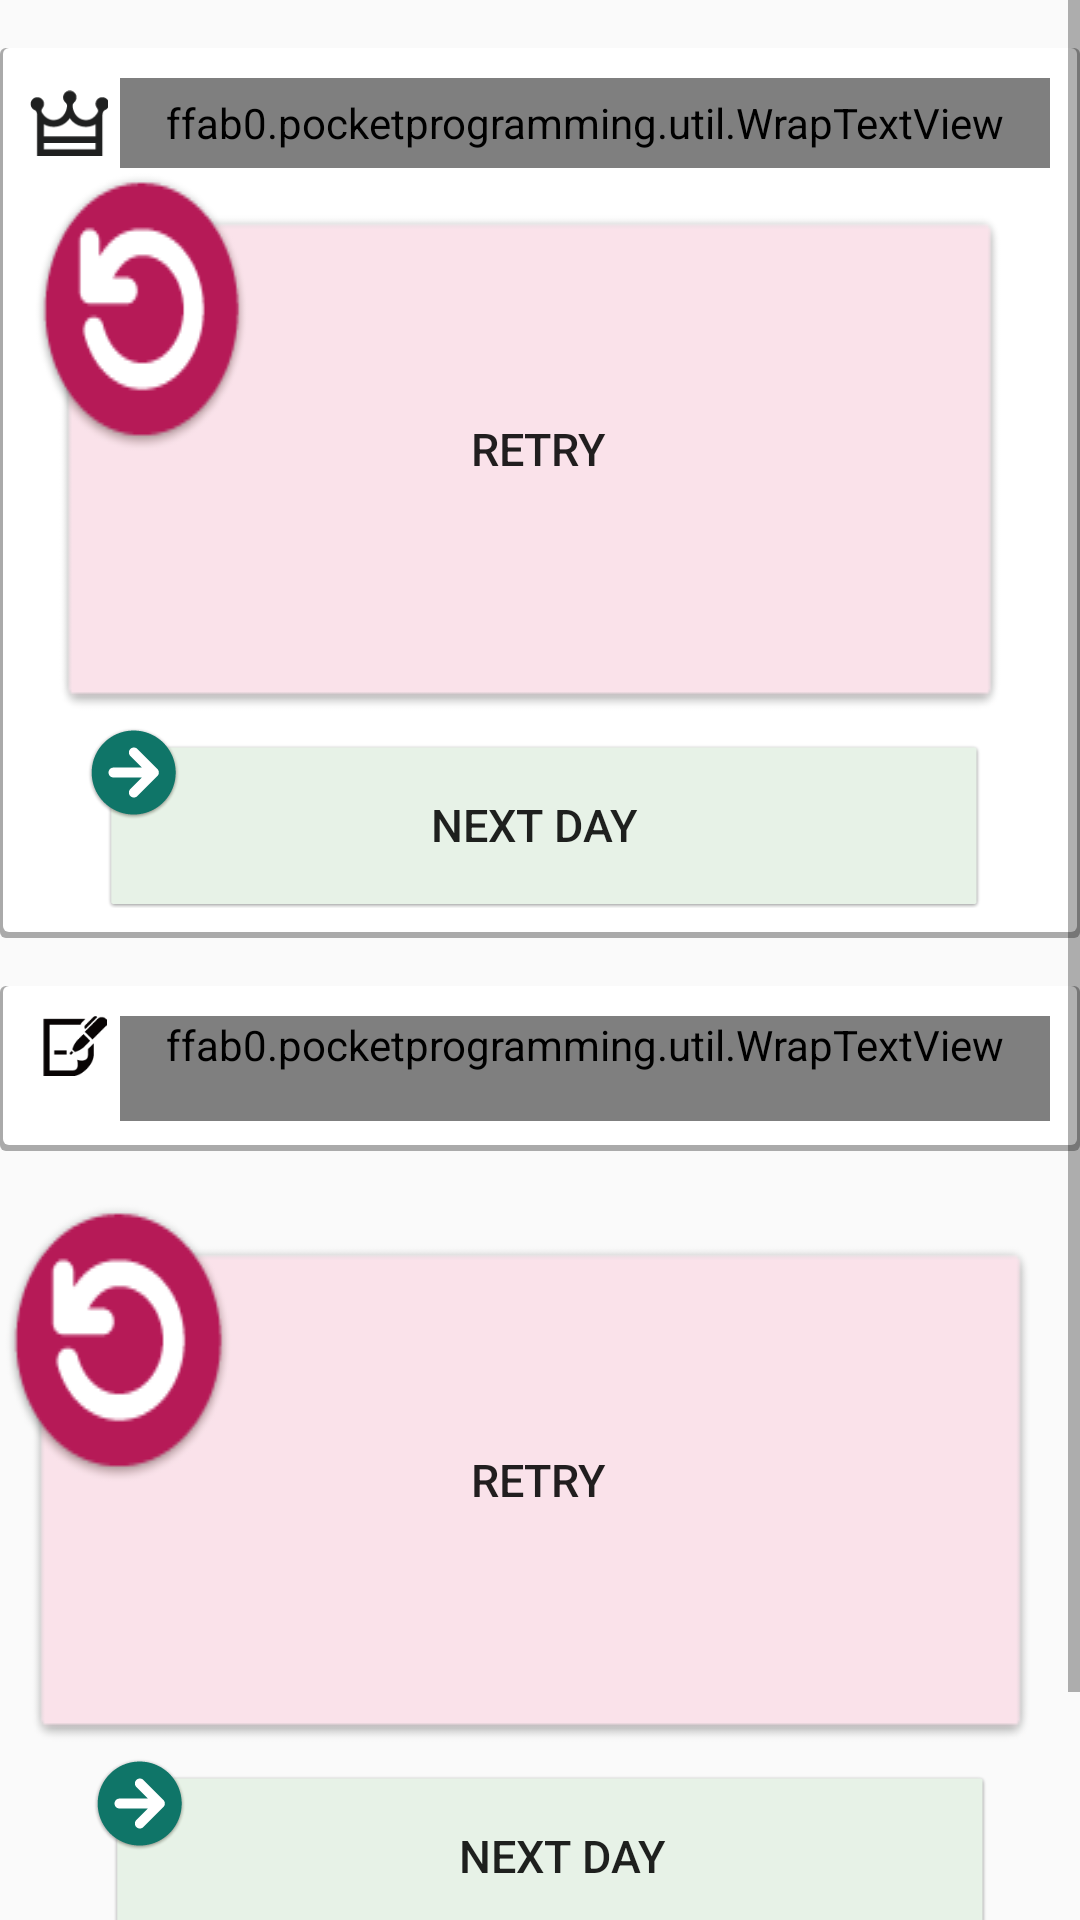

Named icons in this screenshot (1080px×1920px) and their centers, point (x, y):
crawn: point (69, 123)
pencil: point (75, 1046)
